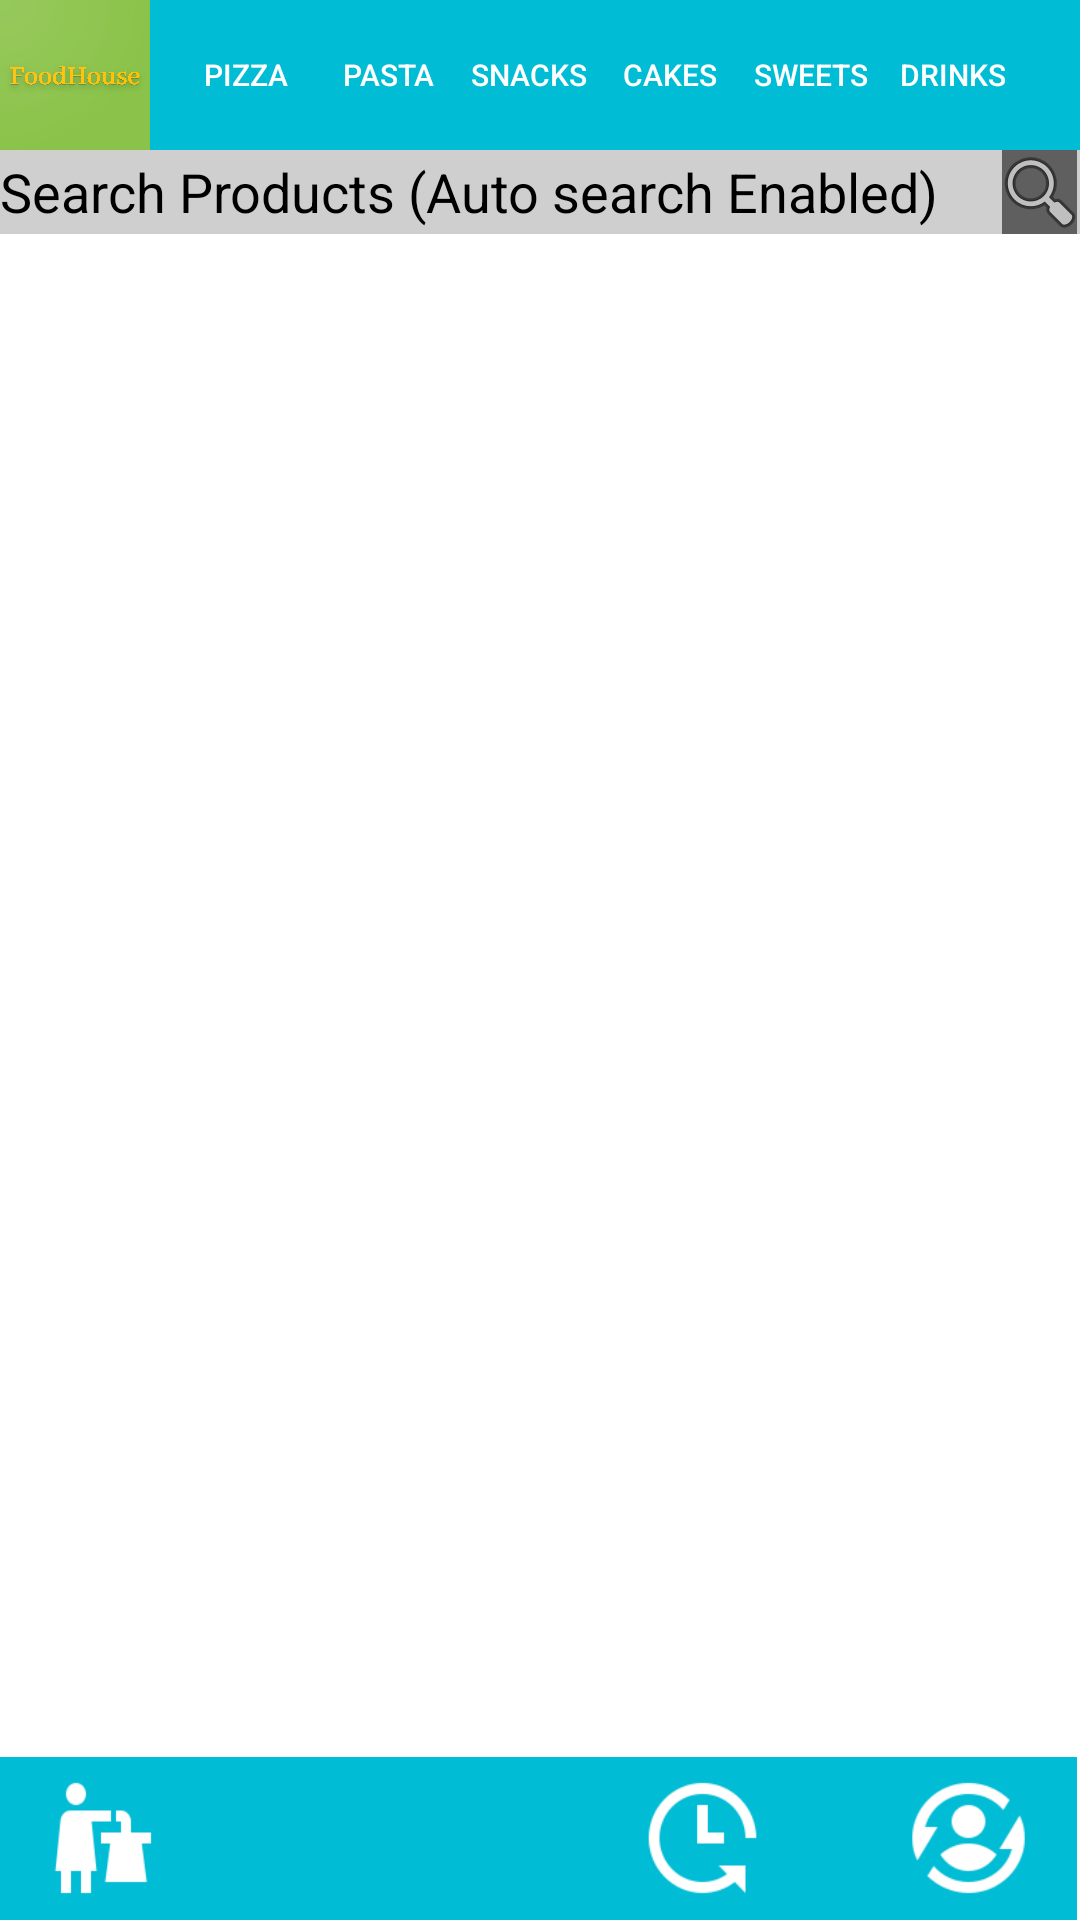

Screen size 1080px×1920px. Icon name, then its center in pixels as (x,y):
deliverytime: (702,1838)
lifecycle: (968,1838)
